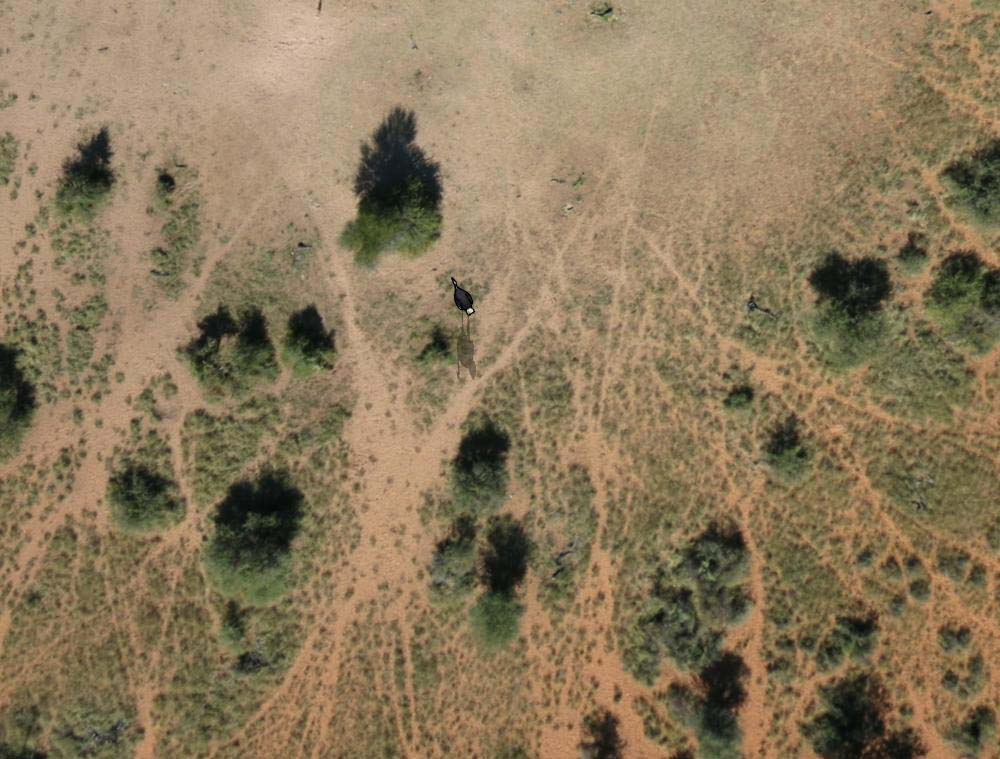ostrich: (447, 273, 477, 317)
